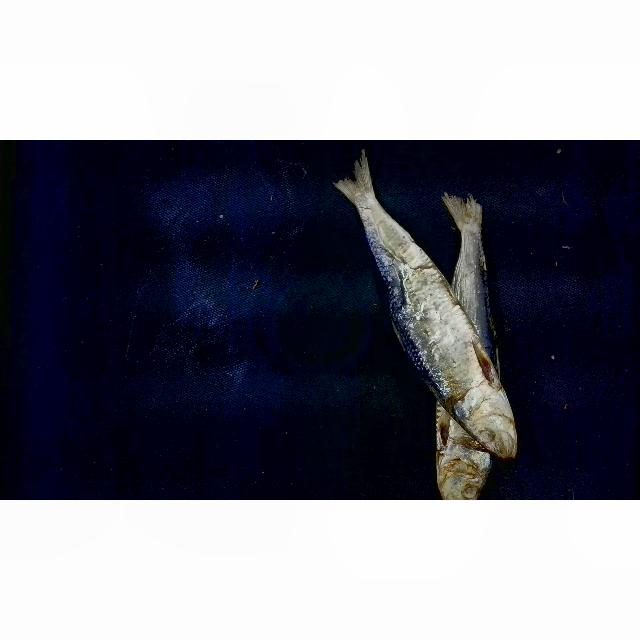Grade_A_Body: (382, 274, 499, 381)
Grade_A_Head: (439, 401, 529, 458), (424, 445, 498, 500)
Grade_A_Tail: (318, 145, 446, 267), (443, 179, 503, 315)
